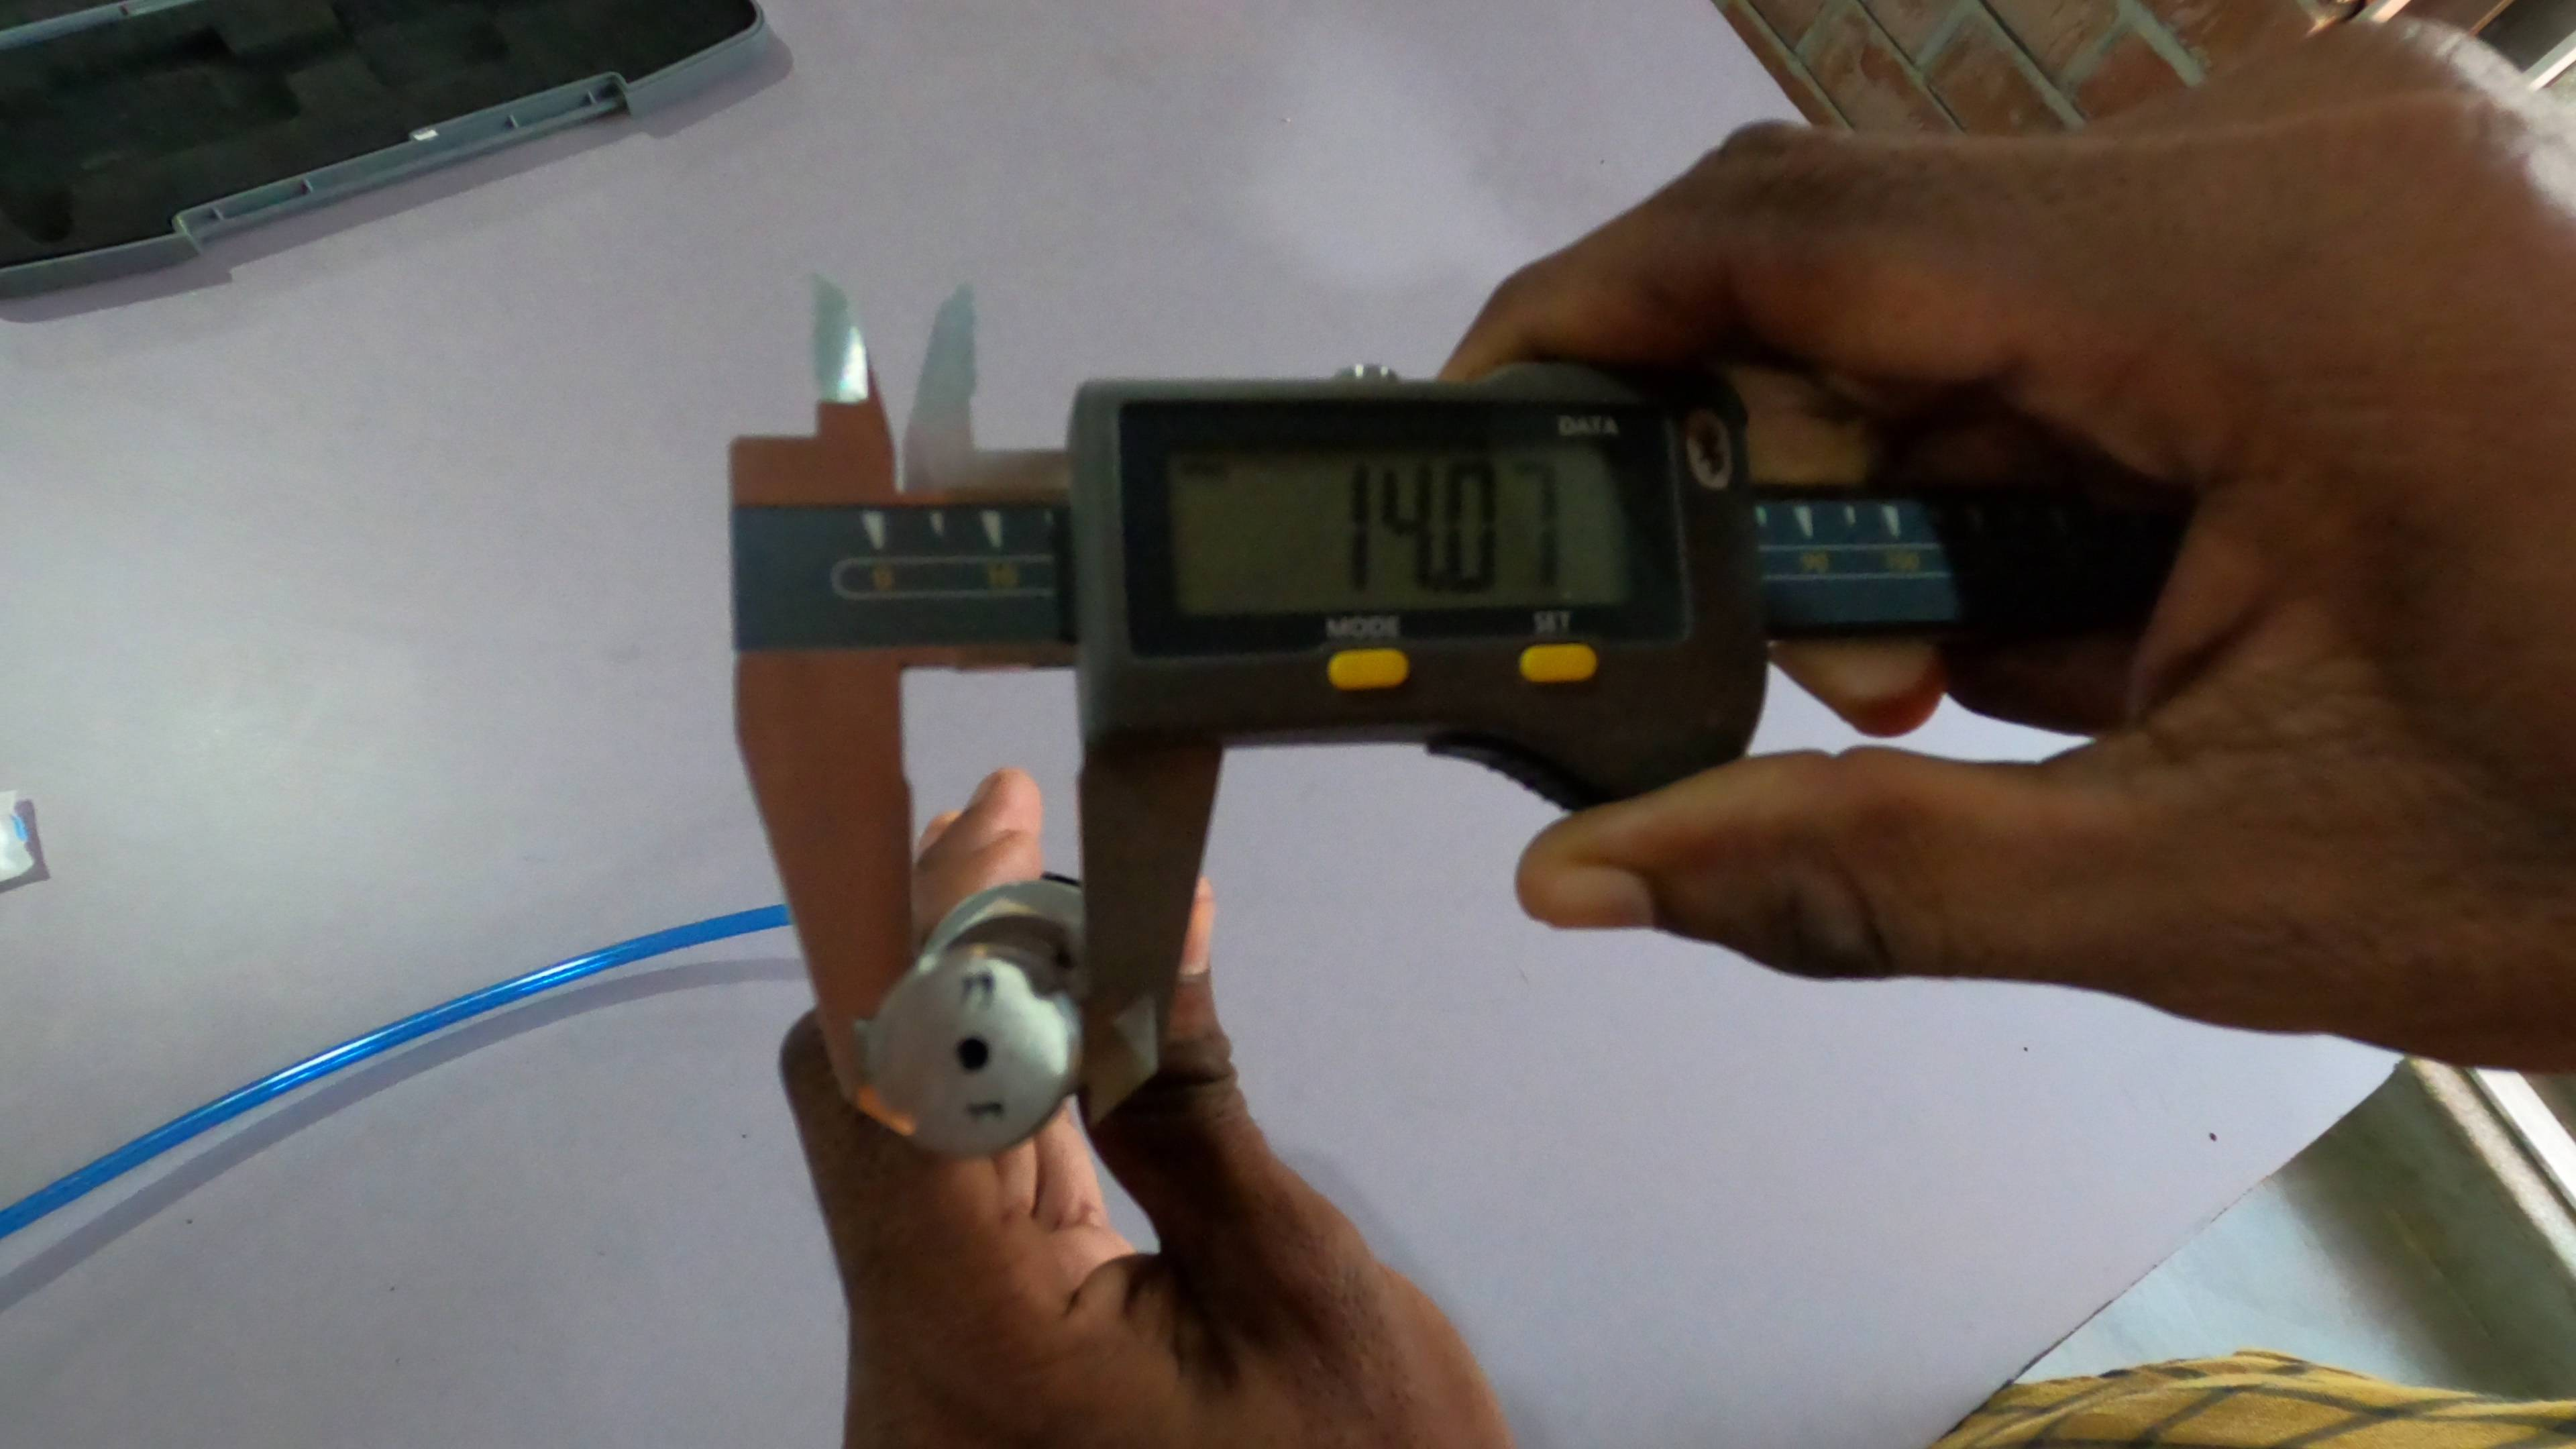vernier_caliper: (708, 269, 2157, 1161)
